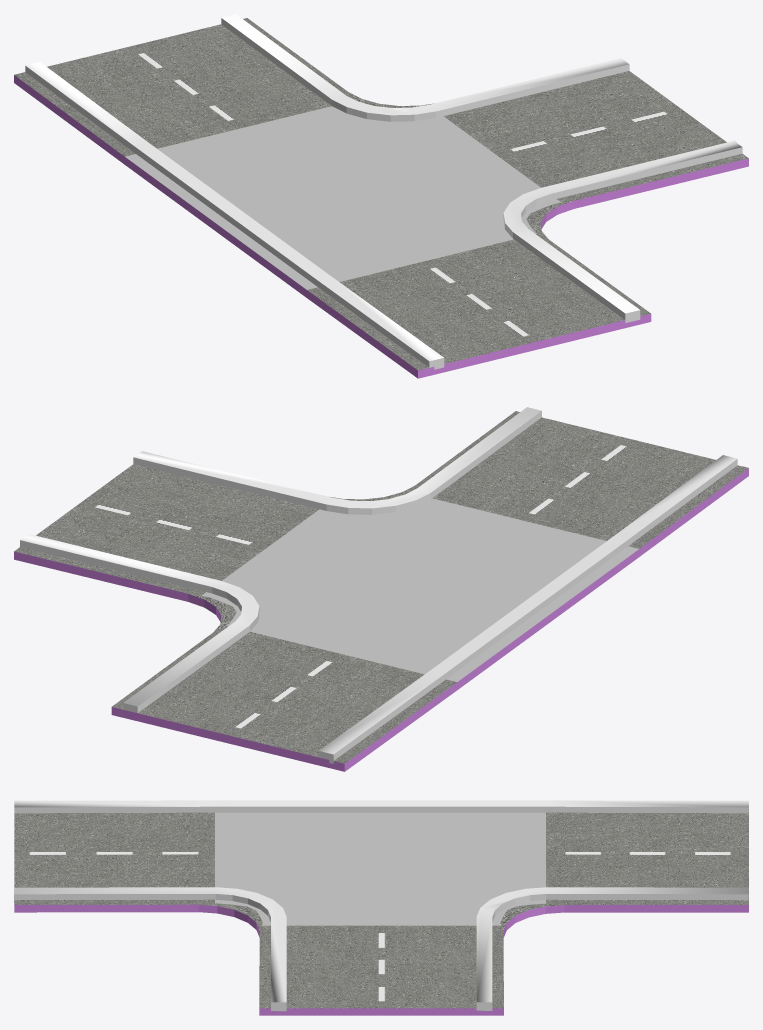
The model's file is 3Road_2.fbx.
3 views of the same model, one above another, from view 1: azimuth 30°, elevation 25°; view 2: azimuth 150°, elevation 25°; view 3: azimuth 270°, elevation 25° (orthographic). The views are drawn at different scales.
Parts seen in each view (by area): view 1: 3Road; view 2: 3Road; view 3: 3Road.
Part boxes in pixels (x1,y1,x2,y2): 3Road: (14, 14, 748, 378); 3Road: (14, 407, 748, 771); 3Road: (14, 800, 748, 1015).
Size of the model in its own units: 1201 by 36.06 by 1802.
